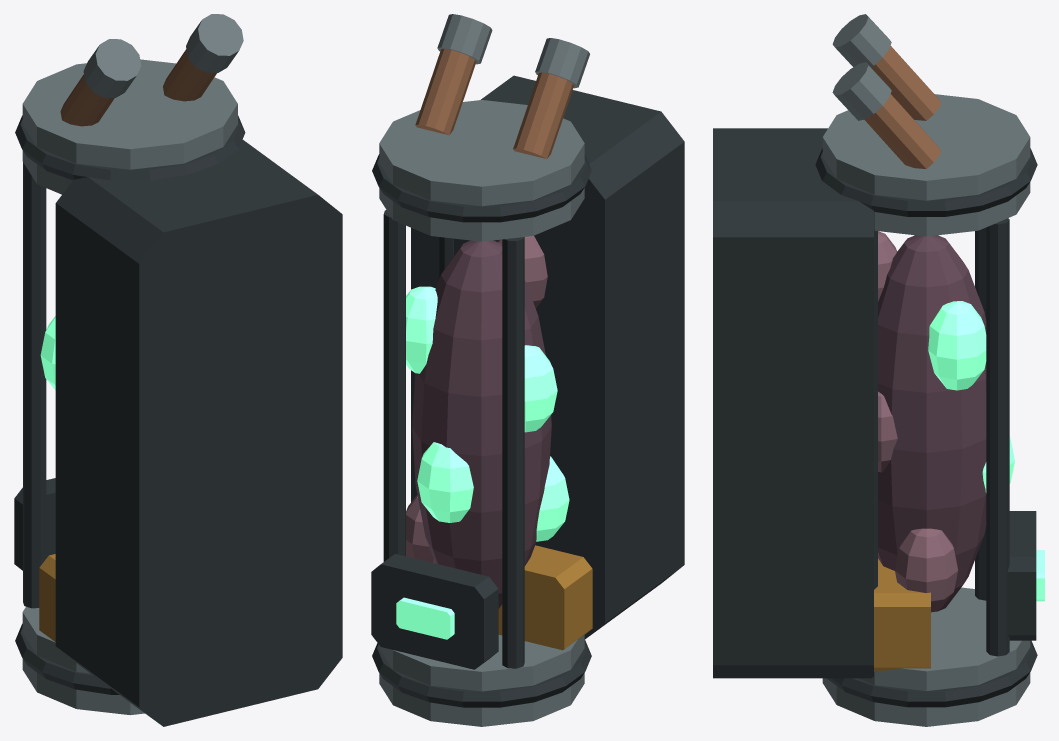
Rendered from culture_reservoir_restorative.glb.
3 renders of one model, left to right at view 1: azimuth 30°, elevation 25°; view 2: azimuth 150°, elevation 25°; view 3: azimuth 270°, elevation 25°, orthographic. The views are drawn at different scales.
Visible parts, largest first — view 1: culture_reservoir_restorative; view 2: culture_reservoir_restorative; view 3: culture_reservoir_restorative.
Part boxes in pixels (x1,y1,x2,y2): culture_reservoir_restorative: (14, 14, 342, 726); culture_reservoir_restorative: (371, 14, 684, 726); culture_reservoir_restorative: (713, 14, 1044, 726).
Size of the model in its own units: 0.155 by 0.4843 by 0.227.
